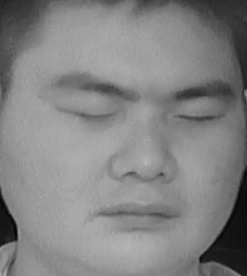blink: (174, 100, 222, 135), (66, 97, 117, 127)
mouth: (95, 192, 185, 237)
